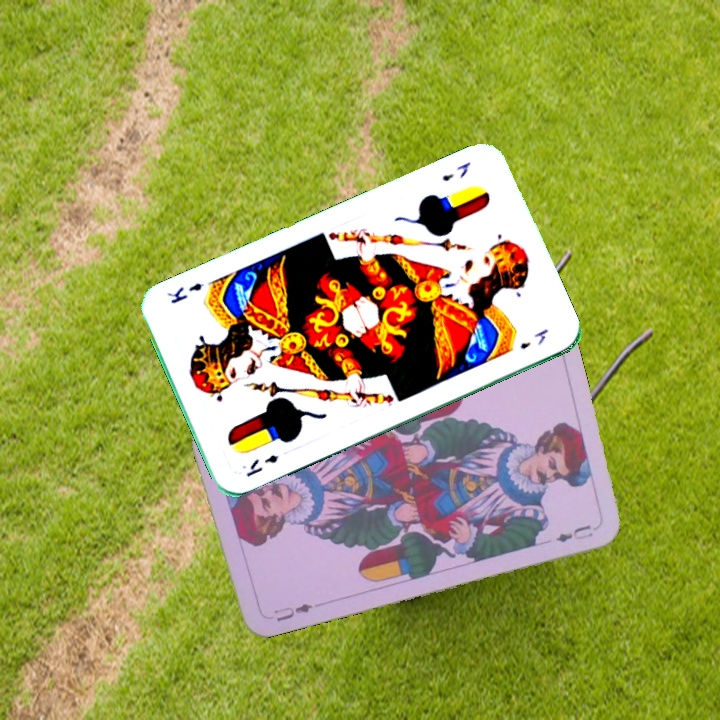EK: (242, 450, 281, 480), (437, 158, 474, 184)
EU: (270, 599, 315, 624)
